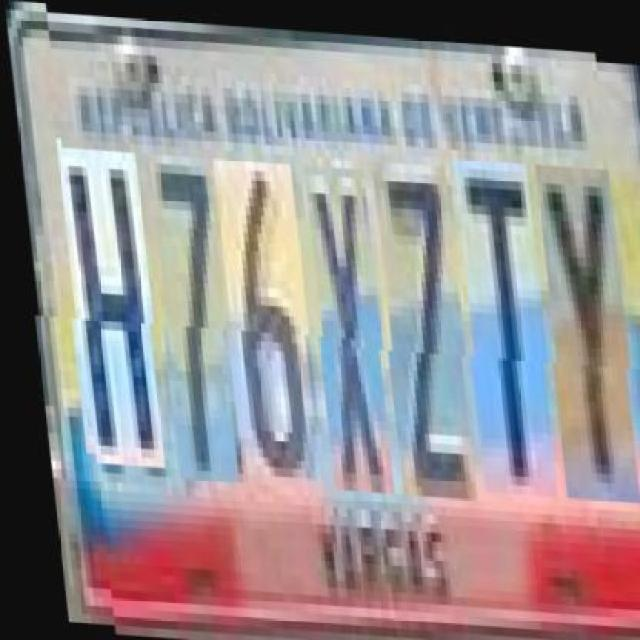6: (210, 156, 315, 476)
7: (145, 152, 233, 480)
h: (54, 146, 158, 466)
t: (450, 152, 552, 490)
x: (301, 161, 388, 488)
y: (532, 156, 634, 495)
z: (368, 156, 470, 493)
